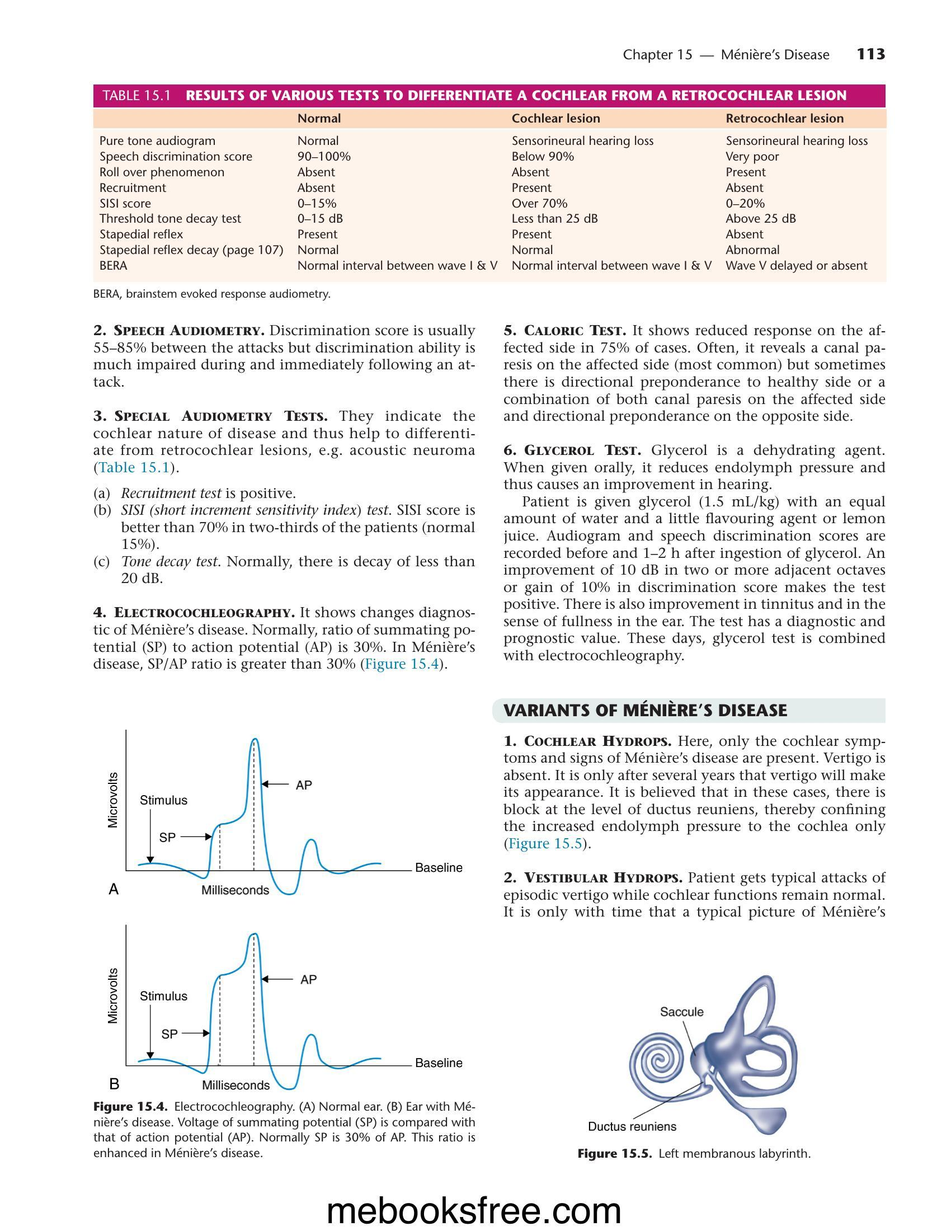caption: (91, 1100, 476, 1159), (101, 88, 849, 102), (576, 1146, 812, 1164), (107, 881, 120, 896), (108, 1076, 121, 1090)
header: (623, 47, 830, 64)
image: (97, 909, 474, 1097), (96, 718, 473, 903), (575, 959, 818, 1143)
list: (90, 322, 478, 675), (500, 322, 887, 669), (501, 733, 887, 923)
section-heading: (501, 700, 790, 719)
table: (91, 107, 888, 302)
